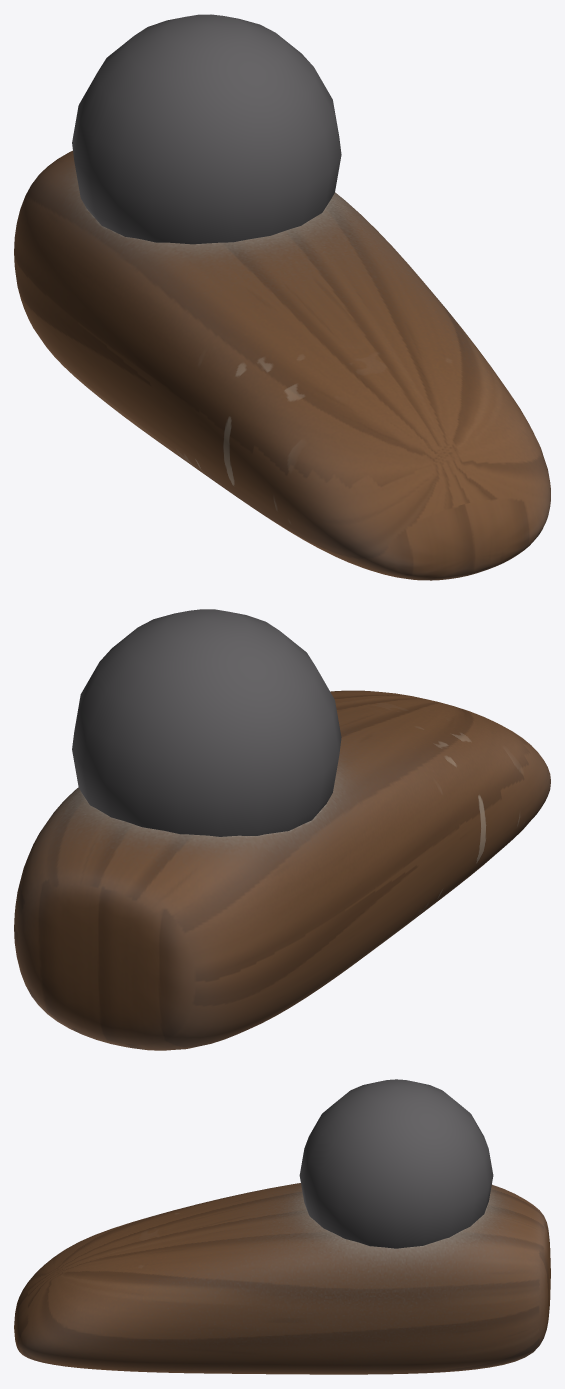
Rendered from Foot_R.glb.
3 views of the same model, one above another, from view 1: azimuth 30°, elevation 25°; view 2: azimuth 150°, elevation 25°; view 3: azimuth 270°, elevation 25° (orthographic). The views are drawn at different scales.
Visible parts, largest first — view 1: Foot_R, Foot_R_Ball; view 2: Foot_R, Foot_R_Ball; view 3: Foot_R, Foot_R_Ball.
Boxes of the visible parts, box(x1,y1,x2,y2) form: Foot_R: box(14, 150, 550, 580); Foot_R_Ball: box(72, 14, 341, 244); Foot_R: box(14, 690, 550, 1050); Foot_R_Ball: box(72, 609, 341, 836); Foot_R: box(14, 1183, 550, 1374); Foot_R_Ball: box(299, 1079, 493, 1248).
Bounding box in the file's own units: 0.103 × 0.1356 × 0.2494.
2 materials, 1 textured.
